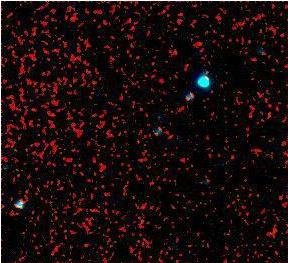star: (191, 63, 221, 93)
